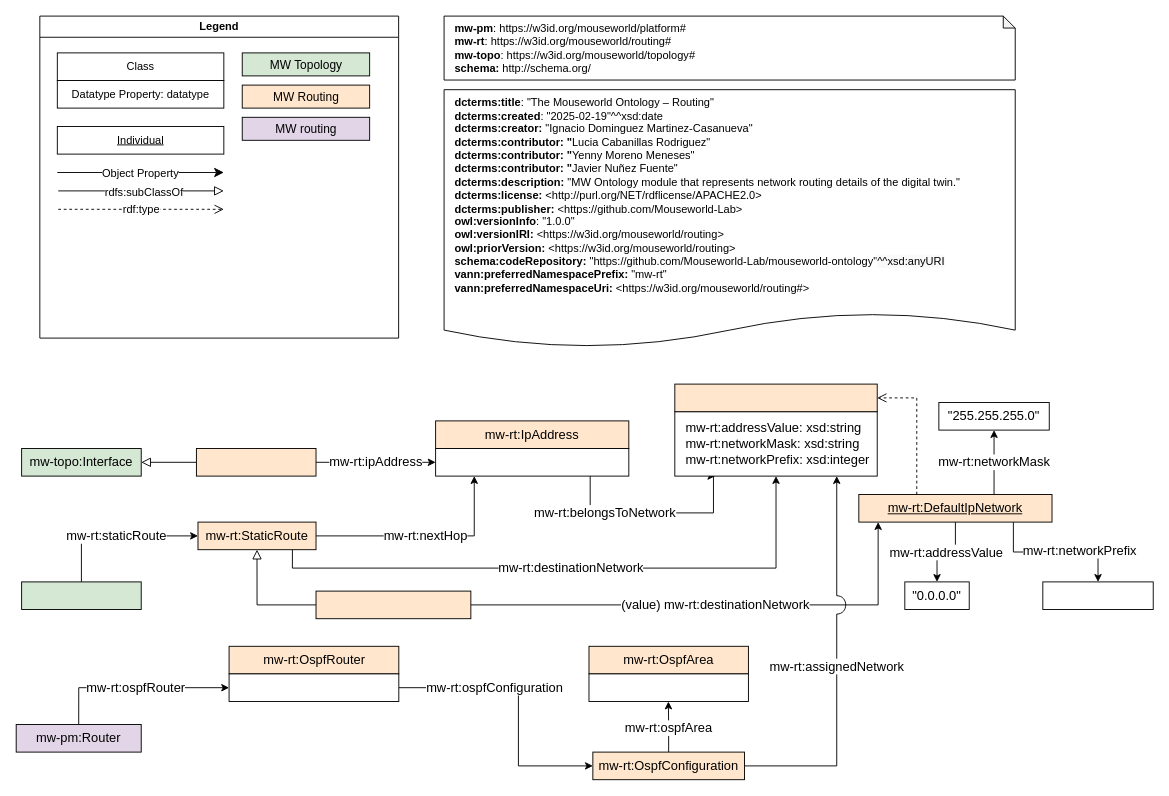
This 1169x796 diagram has some shape labels left out. The shapes that lost their labels are listed below. From the top down, each one's centre as x and y in pixels, then its label:
(775,397): mw-rt:IpNetwork
(256,462): mw-rt:IpInterface
(532,462): mw-rt:addressValue: xsd:string
(81,595): mw-topo:Node
(393,604): mw-rt:DefaultStaticRoute
(1097,595): "0"^^ xsd:integer
(313,687): mw-rt:routerId: rdfs:Literal
(668,687): mw-rt:areaId: xsd:string
